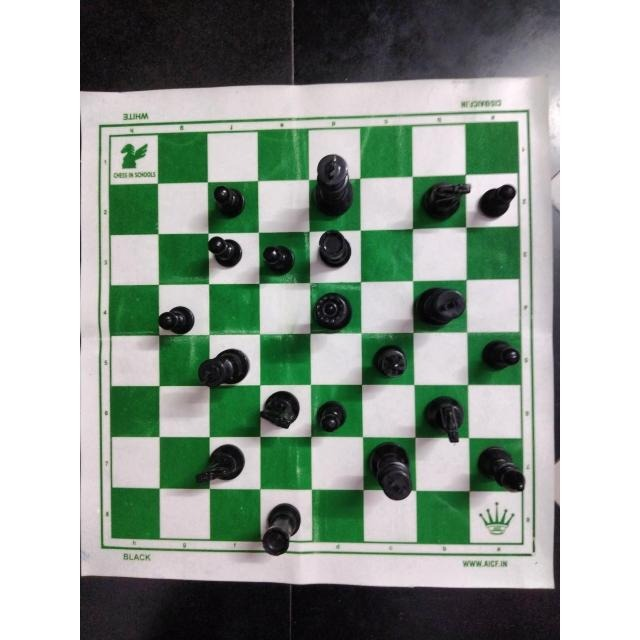black-bishop: (477, 442, 533, 501), (365, 336, 413, 384)
black-king: (365, 439, 417, 503), (308, 152, 356, 216), (193, 346, 253, 394), (413, 284, 468, 328)
black-knight: (419, 174, 476, 224), (420, 390, 467, 446), (193, 442, 247, 489), (259, 385, 303, 436)
black-pawn: (477, 178, 521, 226), (258, 239, 300, 283), (153, 302, 200, 338), (313, 396, 352, 436), (208, 183, 249, 220), (206, 234, 246, 270), (480, 339, 523, 370)
black-queen: (308, 288, 360, 336)
black-rook: (258, 499, 310, 560), (315, 226, 356, 273)
